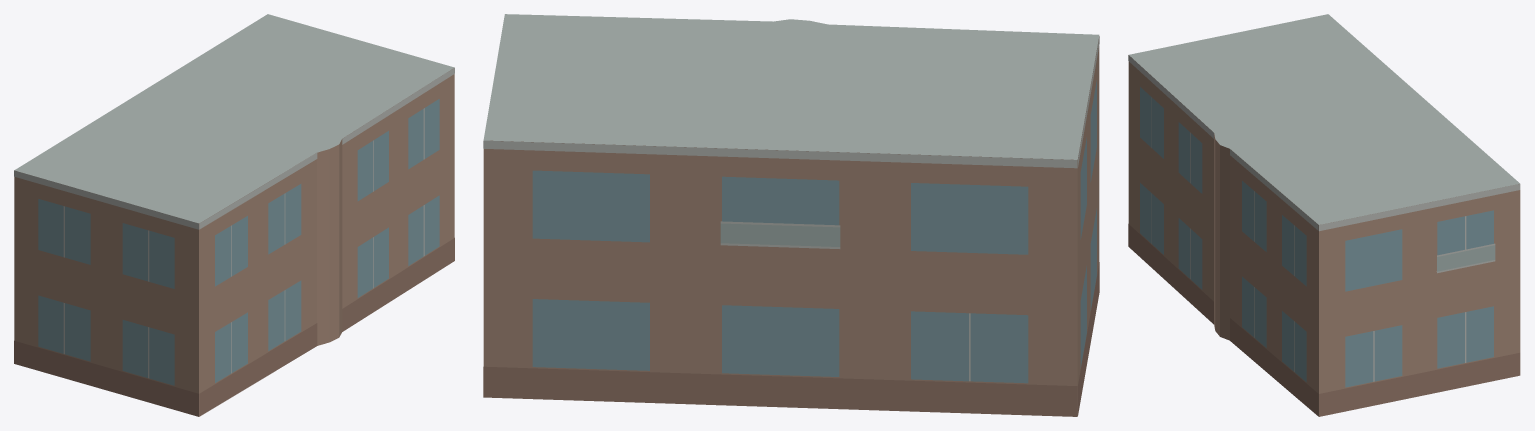
The model's file is survey-upis-32739659.glb.
3 renders of one model, left to right at view 1: azimuth 30°, elevation 25°; view 2: azimuth 150°, elevation 25°; view 3: azimuth 270°, elevation 25°, orthographic. The views are drawn at different scales.
Parts seen in each view (by area): view 1: survey-upis-32739659.tmp; view 2: survey-upis-32739659.tmp; view 3: survey-upis-32739659.tmp.
Boxes of the visible parts, x1,y1,x2,y2 form: survey-upis-32739659.tmp: [14, 14, 454, 416]; survey-upis-32739659.tmp: [483, 14, 1099, 416]; survey-upis-32739659.tmp: [1128, 14, 1520, 416].
Size of the model in its own units: 17.7 by 7.5 by 13.89.
